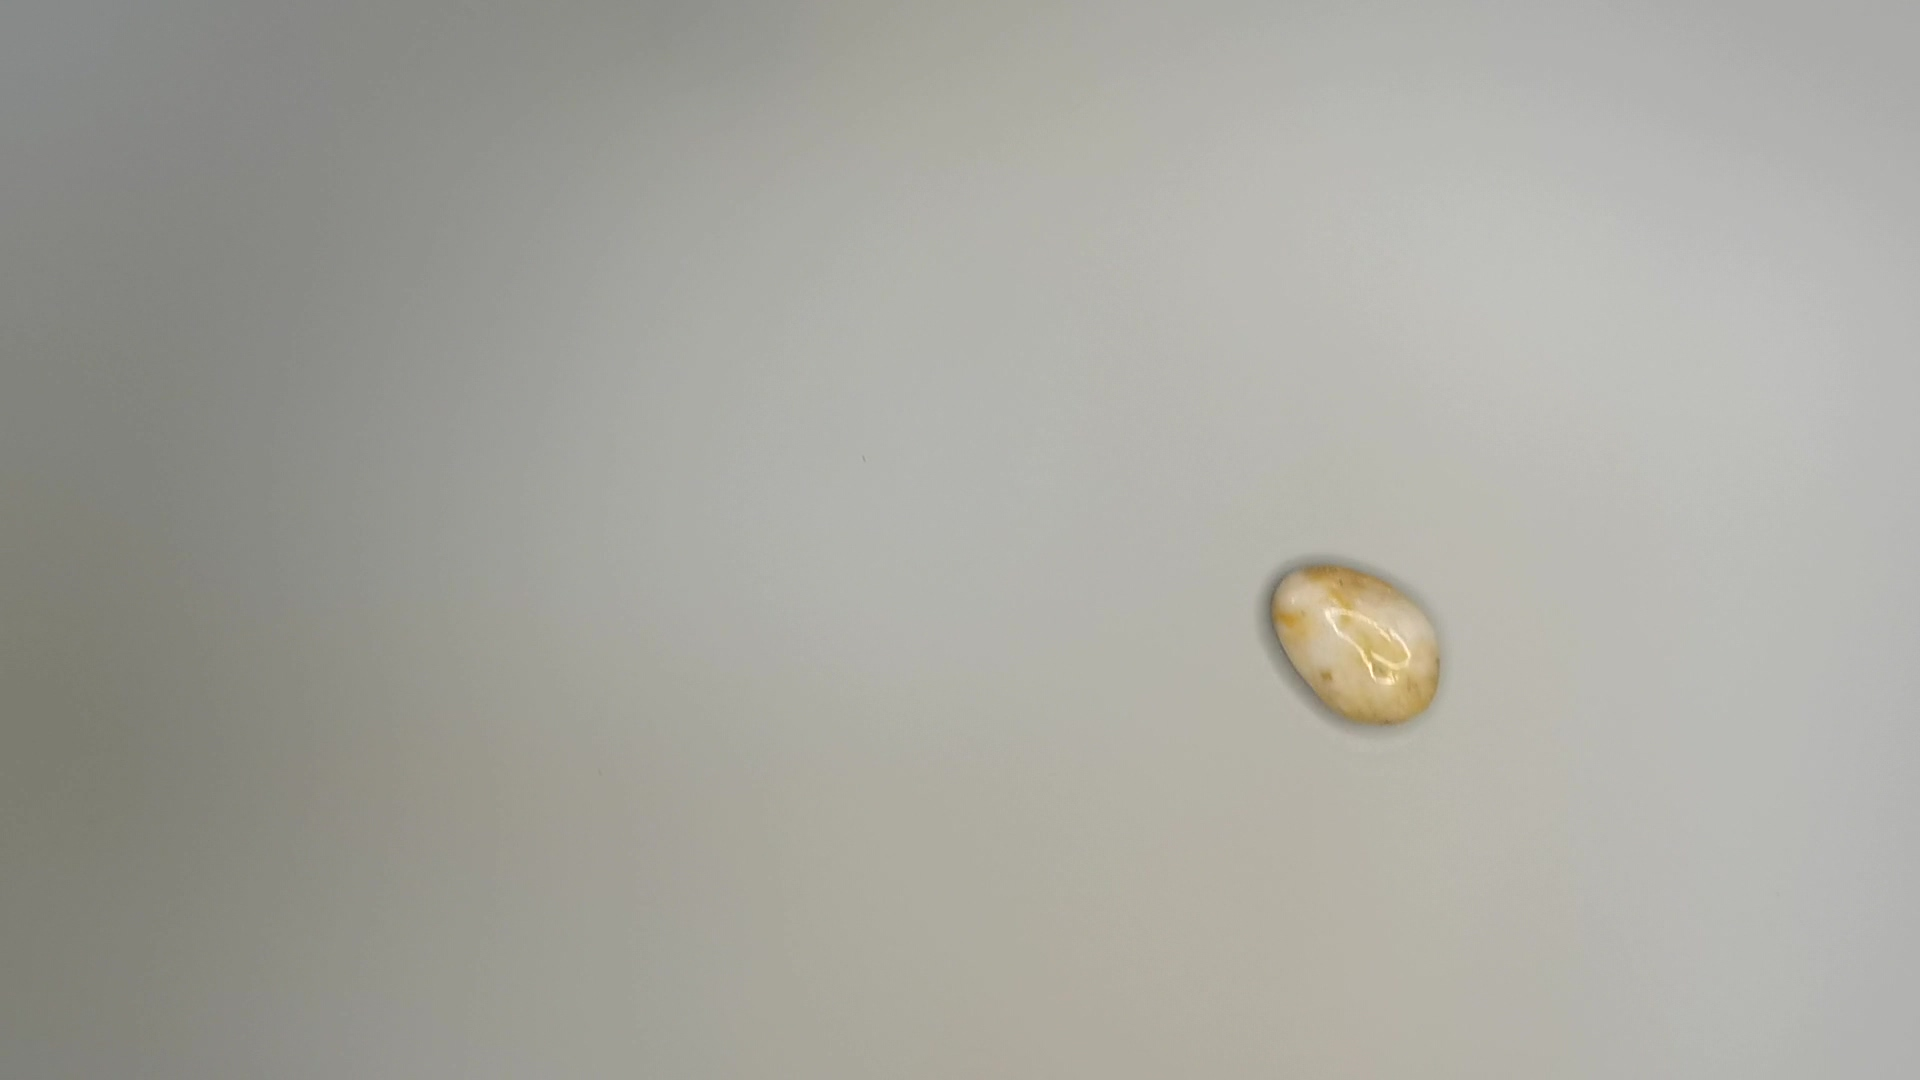ceramic: (1266, 554, 1451, 738)
